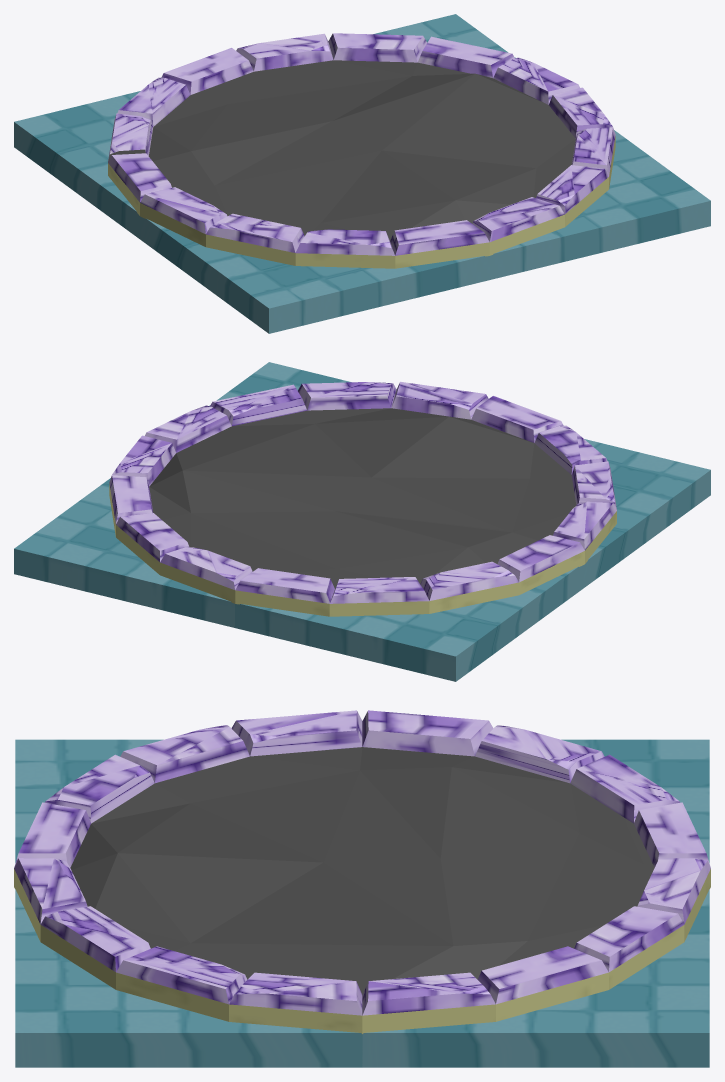
File: Fountain_Plateau_01.fbx
3 renders of one model, top to bottom at view 1: azimuth 30°, elevation 25°; view 2: azimuth 150°, elevation 25°; view 3: azimuth 270°, elevation 25°, orthographic. The views are drawn at different scales.
Visible parts, largest first — view 1: SM_Prop_Fountain_Base_01; view 2: SM_Prop_Fountain_Base_01; view 3: SM_Prop_Fountain_Base_01.
Boxes of the visible parts, x1,y1,x2,y2 form: SM_Prop_Fountain_Base_01: (14,14,710,333); SM_Prop_Fountain_Base_01: (14,362,710,681); SM_Prop_Fountain_Base_01: (14,710,710,1067).
Size of the model in its own units: 502 by 57.15 by 502.
